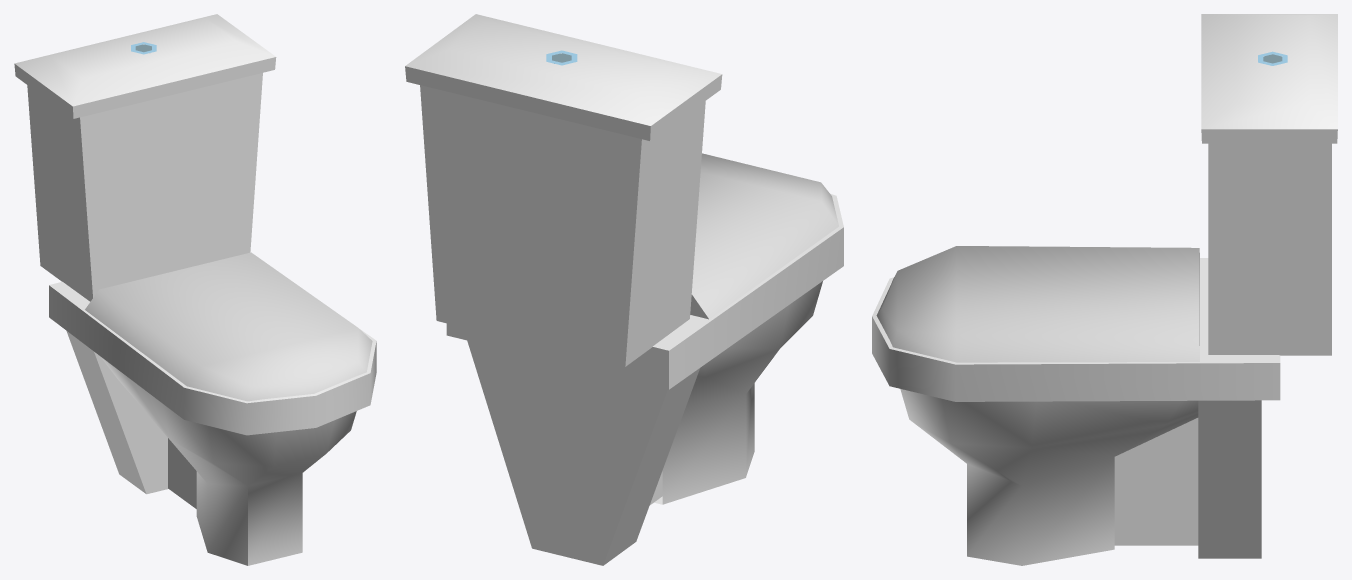
Rendered from bathroom_item_022.glb.
3 renders of one model, left to right at view 1: azimuth 30°, elevation 25°; view 2: azimuth 150°, elevation 25°; view 3: azimuth 270°, elevation 25°, orthographic. The views are drawn at different scales.
Visible parts, largest first — view 1: bathroom_item_022; view 2: bathroom_item_022; view 3: bathroom_item_022.
Part boxes in pixels (x1,y1,x2,y2): bathroom_item_022: (14, 14, 376, 565); bathroom_item_022: (405, 14, 843, 565); bathroom_item_022: (872, 14, 1337, 565).
Bounding box in the file's own units: 0.4168 × 0.8135 × 0.7111.
Materials: 1 (1 with a texture image).
